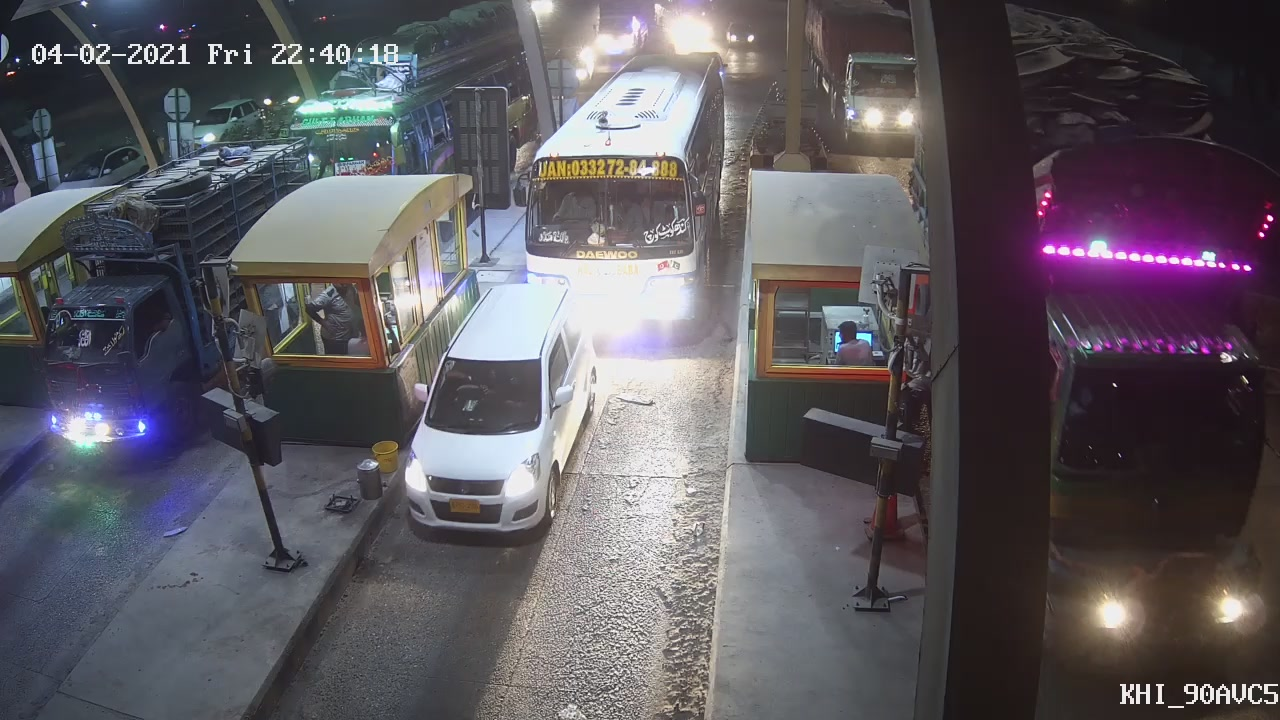F1: (399, 282, 599, 537)
